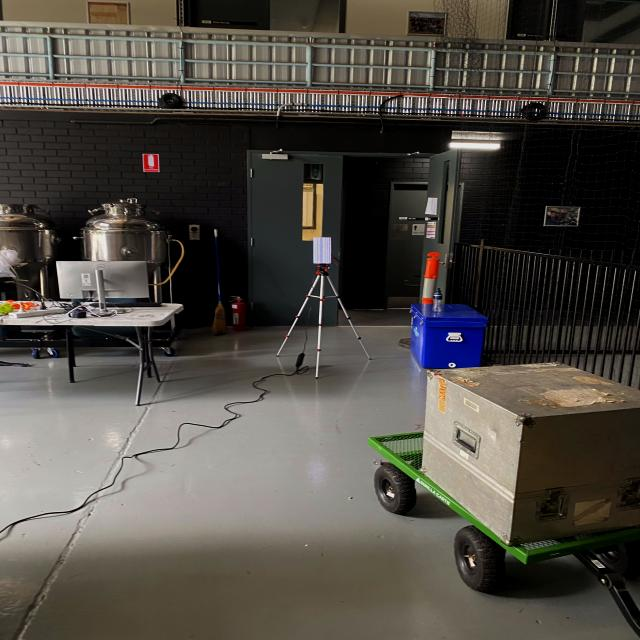matrix: (311, 236, 334, 265)
